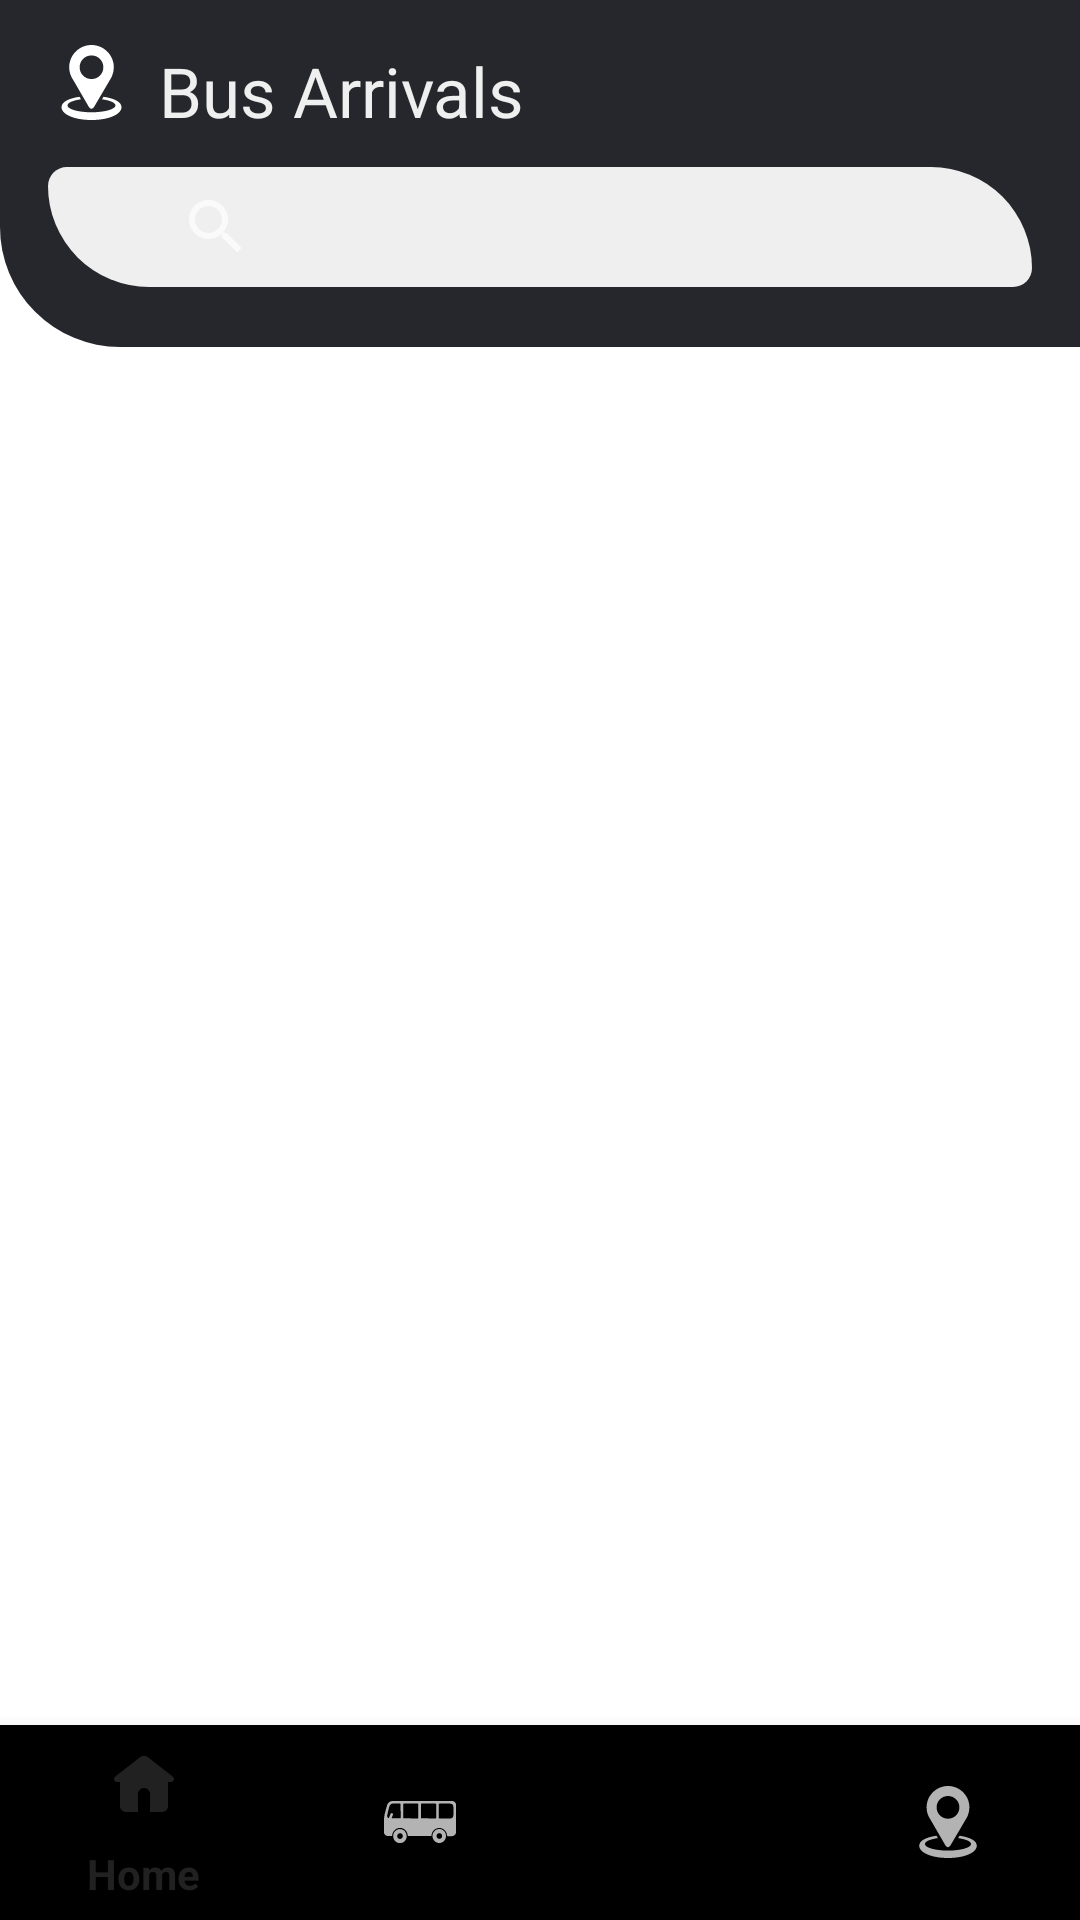

Named icons in this screenshot (1080×1920) and their centers, point (x, y):
geofence: point (91, 82)
